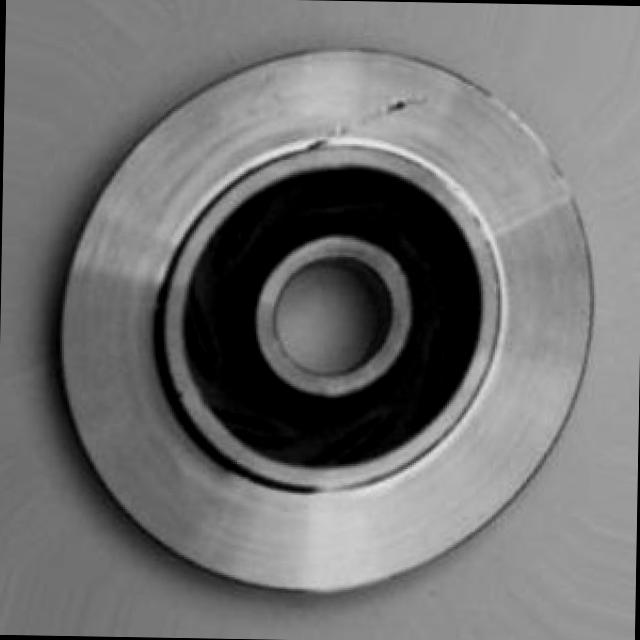Defect: (366, 89, 446, 125)
